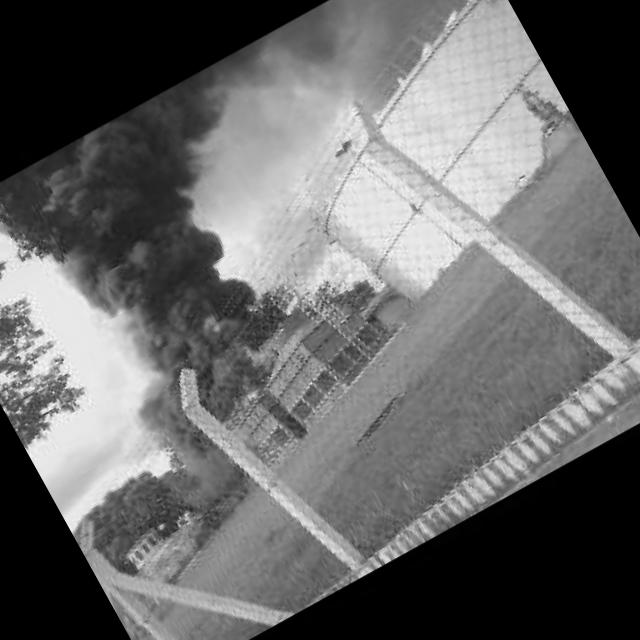fire: (169, 291, 305, 439)
smoke: (0, 76, 320, 424)
